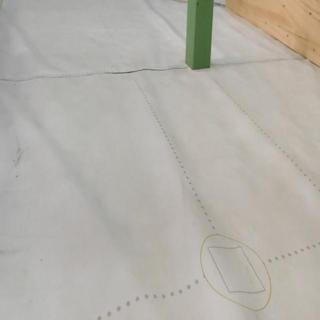greenbox: (185, 0, 213, 69)
